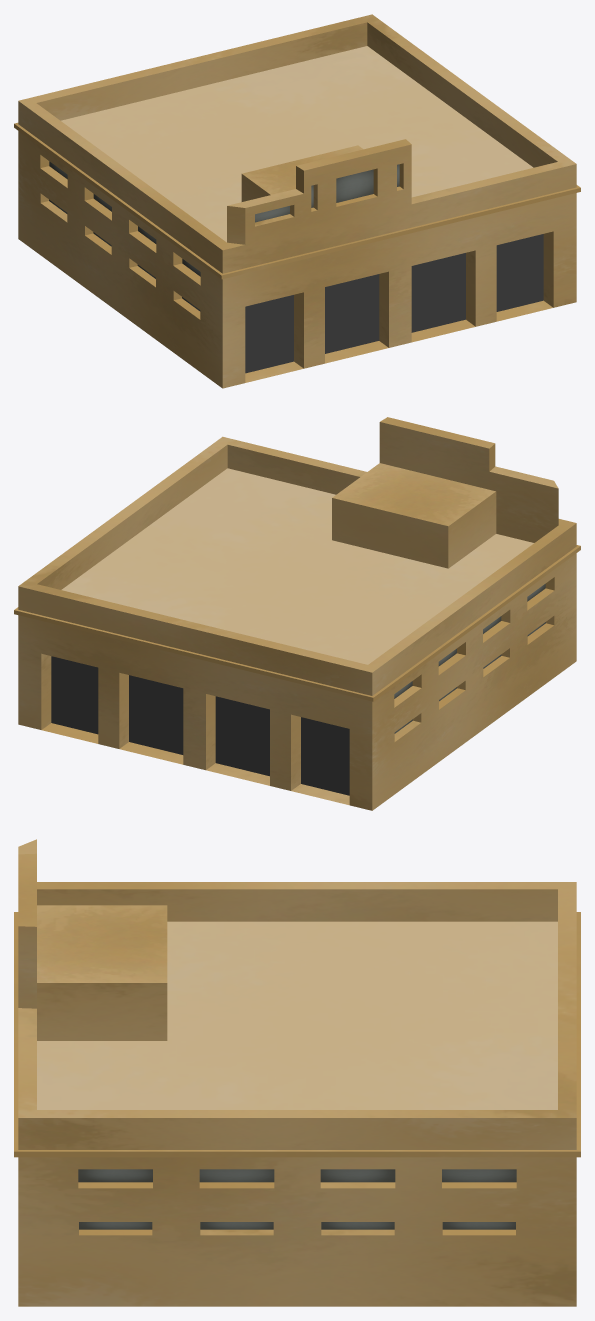
The model's file is TownBuilding_05.fbx.
The picture shows the model from 3 angles, top to bottom: view 1: azimuth 30°, elevation 25°; view 2: azimuth 150°, elevation 25°; view 3: azimuth 270°, elevation 25°; orthographic projection. The views are drawn at different scales.
Parts seen in each view (by area): view 1: Cube.013; view 2: Cube.013; view 3: Cube.013.
Part boxes in pixels (box(x1,y1,x2,y2)): Cube.013: box(14, 14, 580, 388); Cube.013: box(14, 417, 580, 810); Cube.013: box(14, 839, 580, 1306).
Bounding box in the file's own units: 1403 × 739 × 1403.
